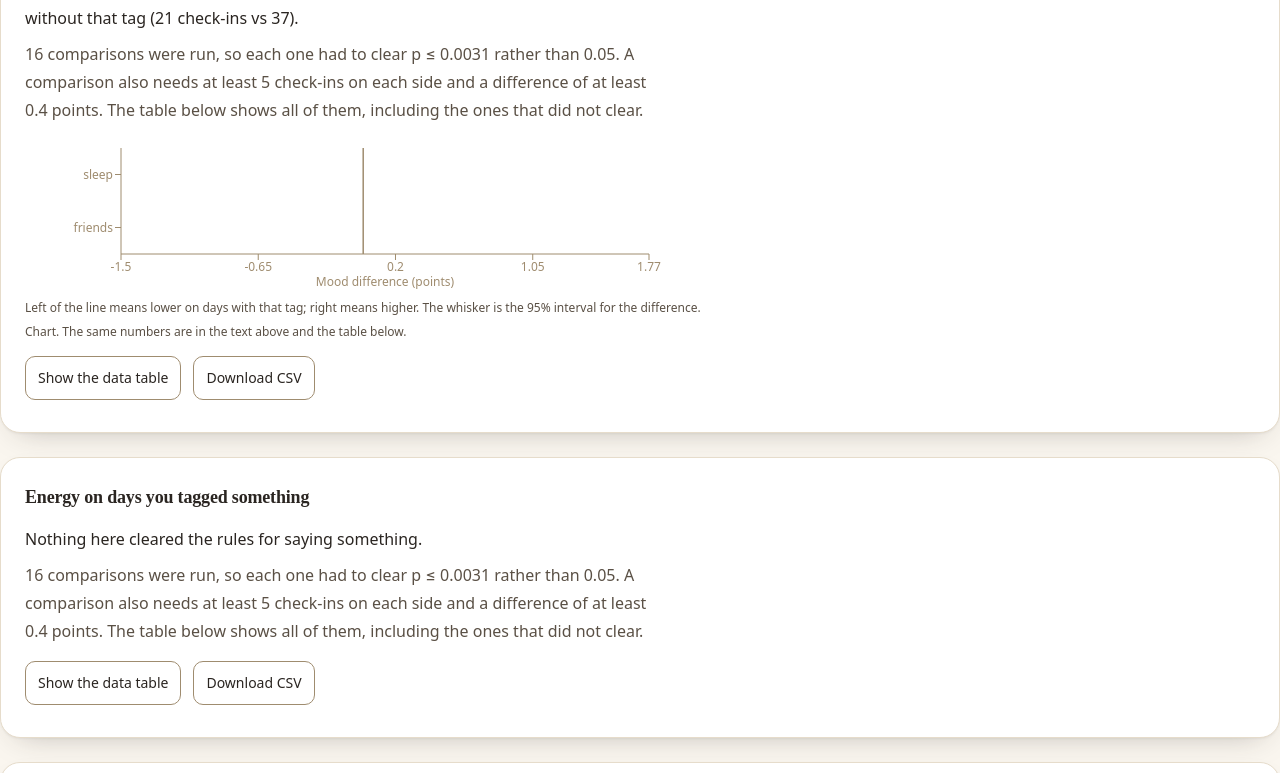
Test case: the text alternative › shows held-back comparisons in the table but not in the chart
(page scrolled)
Expected: the element with test id "difference-chart" shows "sleep", [83,165,113,182]
Expected: the element with test id "difference-chart" shows "friends", [74,218,113,235]
What coordinates should you click on to do the following:
click the button "Show the data table" below "Mood difference (points)"
I would click on:
 (103, 378)
Its box is [25,356,182,400].
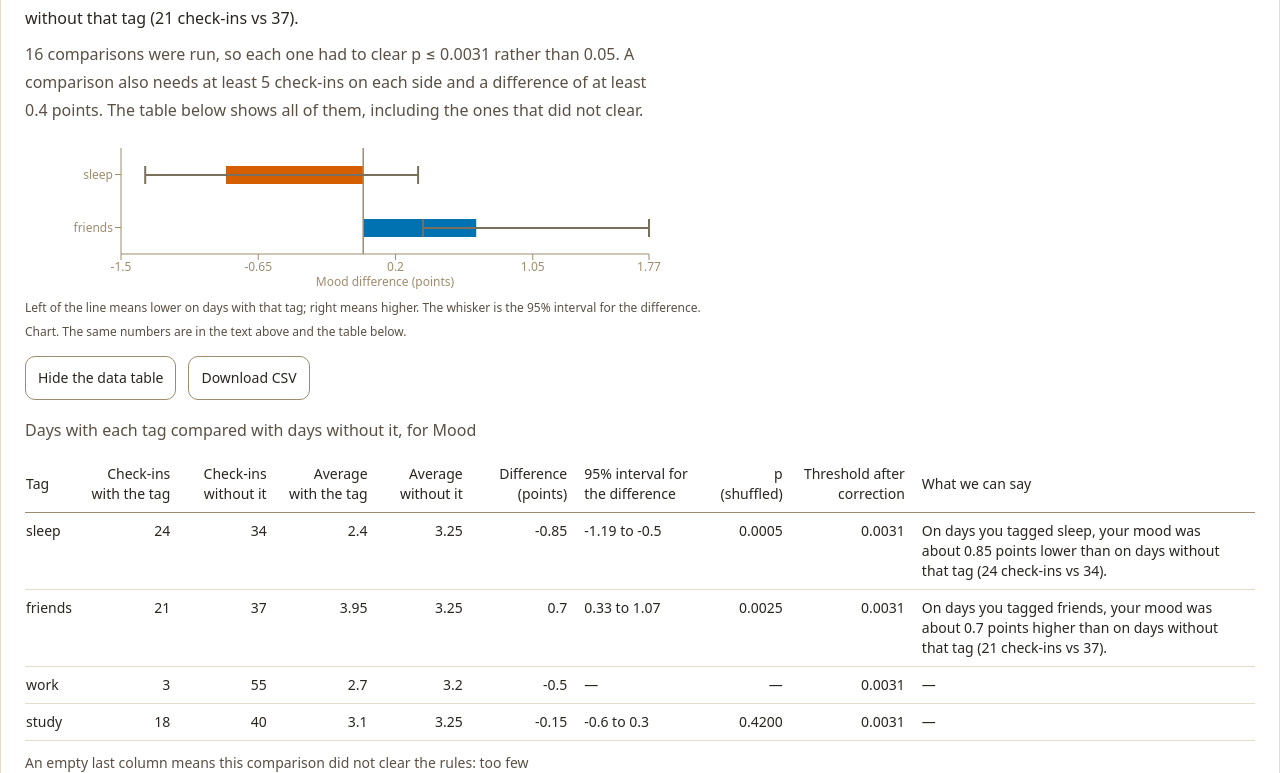
Expected: the table shows "-0.85", [535,520,567,540]
Expected: the table shows "0.0031", [861,520,905,540]
